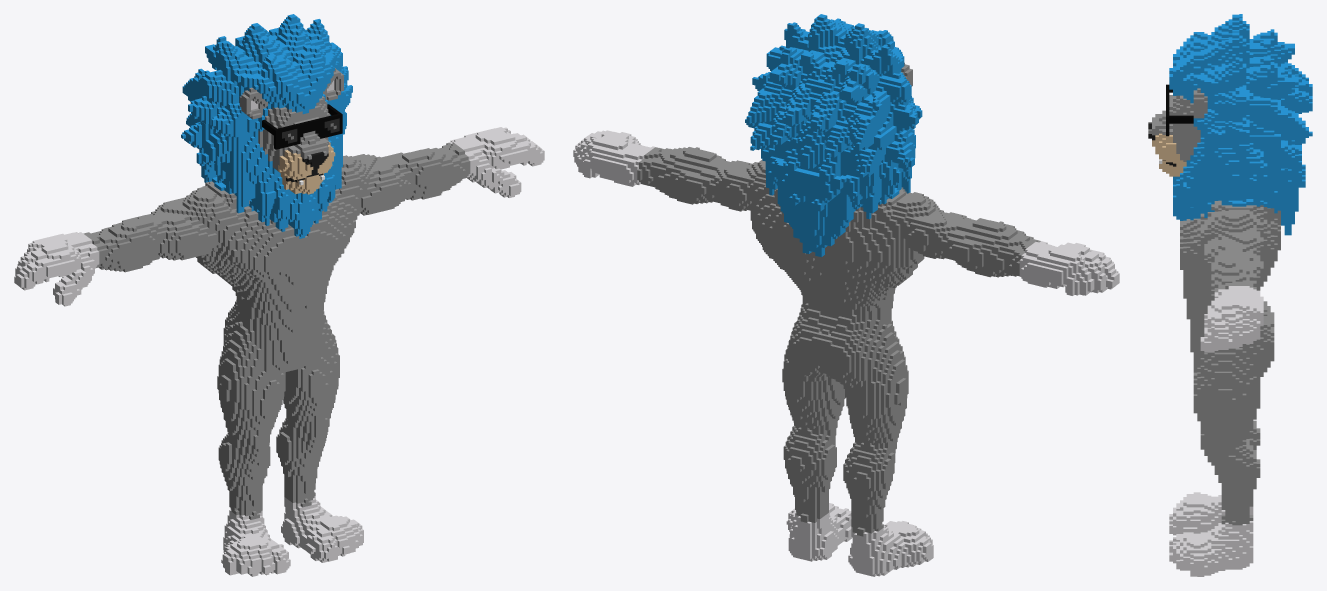
File: 424-CQgqXUpB.glb
3 views of the same model, side by side, from view 1: azimuth 30°, elevation 25°; view 2: azimuth 150°, elevation 25°; view 3: azimuth 270°, elevation 25° (orthographic). The views are drawn at different scales.
Visible parts, largest first — view 1: standard; view 2: standard; view 3: standard.
Boxes of the visible parts, x1,y1,x2,y2 form: standard: (14, 14, 544, 576); standard: (573, 14, 1119, 576); standard: (1148, 14, 1312, 576).
Bounding box in the file's own units: 17.2 × 16.5 × 4.7.
Materials: 4 (4 with a texture image).
